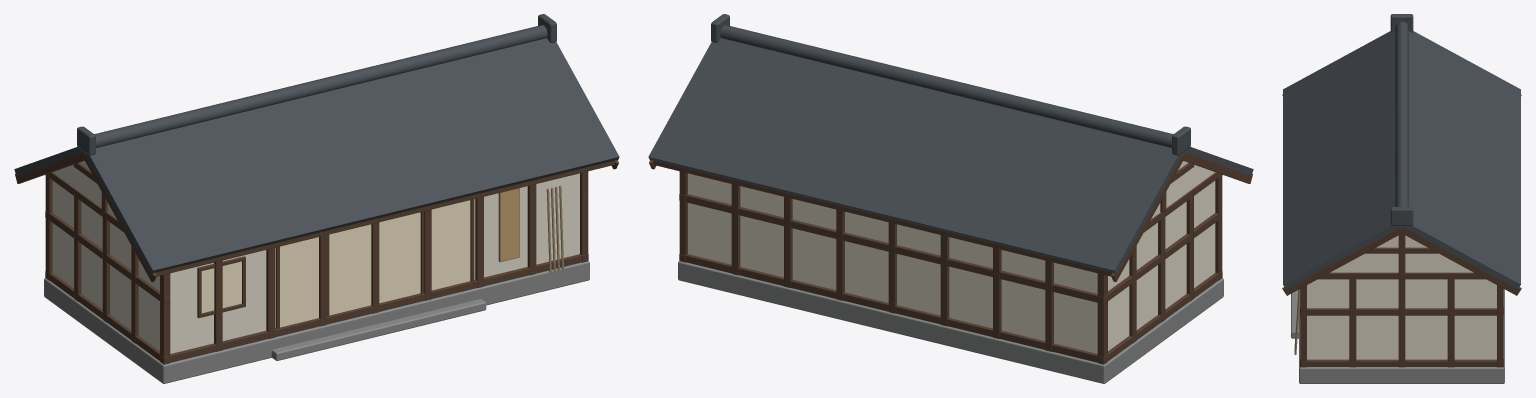
The model's file is village-dojo.glb.
The picture shows the model from 3 angles, left to right: view 1: azimuth 30°, elevation 25°; view 2: azimuth 150°, elevation 25°; view 3: azimuth 270°, elevation 25°; orthographic projection. The views are drawn at different scales.
Visible parts, largest first — view 1: cell-0-1:village-roof, cell-3-1:village-roof, cell-1-1:village-roof, cell-2-1:village-roof, cell-0-1:village-plaster, cell-0-1:village-cedar, cell-1-1:village-shoji, cell-2-1:village-shoji, cell-3-1:village-plaster, cell-0-0:village-plaster, cell-0-0:village-cedar, cell-1-1:village-cedar (+11 smaller); view 2: cell-0-0:village-roof, cell-3-0:village-roof, cell-1-0:village-roof, cell-2-0:village-roof, cell-0-0:village-plaster, cell-0-0:village-cedar, cell-1-0:village-plaster, cell-2-0:village-plaster, cell-3-0:village-plaster, cell-0-1:village-plaster, cell-1-0:village-cedar, cell-2-0:village-cedar (+8 smaller); view 3: cell-3-0:village-plaster, cell-3-1:village-plaster, cell-3-0:village-roof, cell-3-1:village-roof, cell-0-0:village-roof, cell-0-1:village-roof, cell-1-0:village-roof, cell-1-1:village-roof, cell-2-0:village-roof, cell-2-1:village-roof, cell-3-0:village-cedar, cell-3-1:village-cedar (+4 smaller).
Part boxes in pixels (x1=…): cell-0-1:village-roof: x1=82, y1=107, x2=276, y2=274; cell-3-1:village-roof: x1=427, y1=18, x2=619, y2=189; cell-1-1:village-roof: x1=207, y1=80, x2=386, y2=243; cell-2-1:village-roof: x1=317, y1=53, x2=495, y2=216; cell-0-1:village-plaster: x1=107, y1=203, x2=264, y2=353; cell-0-1:village-cedar: x1=84, y1=155, x2=275, y2=364; cell-1-1:village-shoji: x1=280, y1=224, x2=371, y2=327; cell-2-1:village-shoji: x1=379, y1=200, x2=470, y2=303; cell-3-1:village-plaster: x1=484, y1=173, x2=579, y2=277; cell-0-0:village-plaster: x1=52, y1=161, x2=102, y2=308; cell-0-0:village-cedar: x1=15, y1=152, x2=104, y2=320; cell-1-1:village-cedar: x1=265, y1=216, x2=384, y2=339; cell-0-0:village-roof: x1=991, y1=107, x2=1185, y2=274; cell-3-0:village-roof: x1=648, y1=18, x2=840, y2=189; cell-1-0:village-roof: x1=881, y1=80, x2=1060, y2=243; cell-2-0:village-roof: x1=772, y1=53, x2=950, y2=216; cell-0-0:village-plaster: x1=1003, y1=203, x2=1160, y2=353; cell-0-0:village-cedar: x1=992, y1=155, x2=1183, y2=364; cell-1-0:village-plaster: x1=897, y1=224, x2=1003, y2=330; cell-2-0:village-plaster: x1=792, y1=199, x2=888, y2=302; cell-3-0:village-plaster: x1=688, y1=173, x2=783, y2=277; cell-0-1:village-plaster: x1=1165, y1=161, x2=1215, y2=308; cell-1-0:village-cedar: x1=883, y1=216, x2=1002, y2=339; cell-2-0:village-cedar: x1=773, y1=190, x2=891, y2=312; cell-3-0:village-plaster: x1=1405, y1=235, x2=1496, y2=359; cell-3-1:village-plaster: x1=1307, y1=235, x2=1398, y2=359; cell-3-0:village-roof: x1=1402, y1=162, x2=1520, y2=289; cell-3-1:village-roof: x1=1283, y1=162, x2=1401, y2=289; cell-0-0:village-roof: x1=1402, y1=14, x2=1520, y2=140; cell-0-1:village-roof: x1=1283, y1=14, x2=1401, y2=140; cell-1-0:village-roof: x1=1402, y1=70, x2=1520, y2=186; cell-1-1:village-roof: x1=1283, y1=70, x2=1401, y2=186; cell-2-0:village-roof: x1=1402, y1=116, x2=1520, y2=232; cell-2-1:village-roof: x1=1283, y1=116, x2=1401, y2=232; cell-3-0:village-cedar: x1=1402, y1=227, x2=1521, y2=367; cell-3-1:village-cedar: x1=1282, y1=227, x2=1401, y2=367.
Size of the model in its own units: 10.24 by 4.47 by 5.27.
